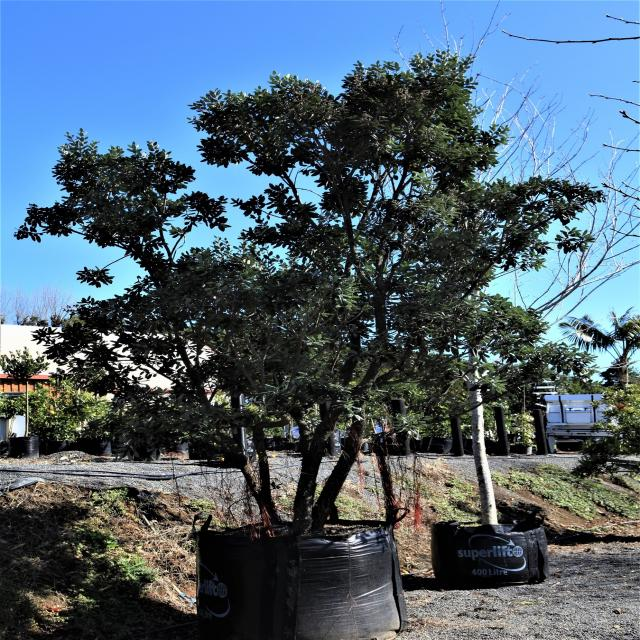Pohutukawa: (8, 49, 606, 541)
